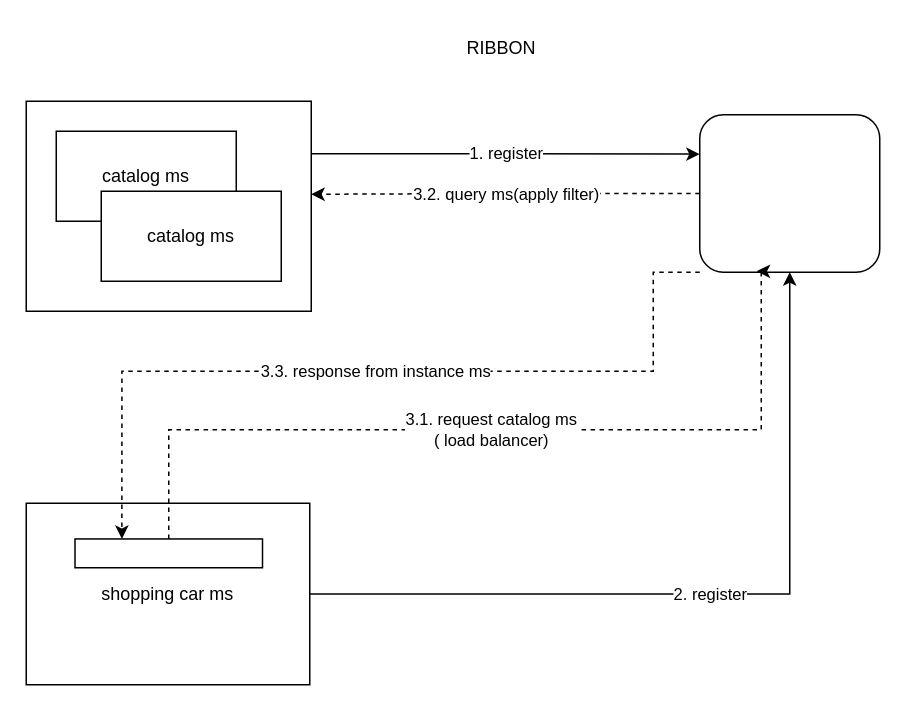
The diagram is 906 pixels wide and 711 high, and some of its shapes have lost their labels. The centre of each missing label's shape, as x and y in pixels:
Eureka Server ms: pixel 789 192
ribbon component: pixel 168 552
